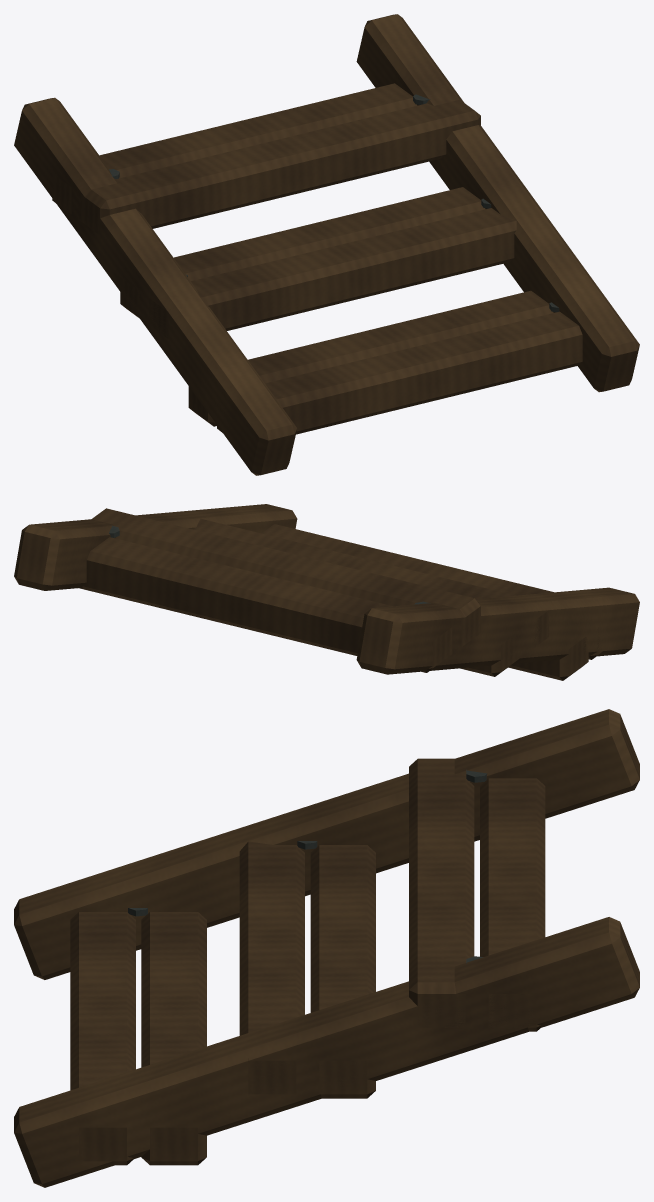
Rendered from salvaged-stairs-cBuN6S1r.glb.
3 renders of one model, top to bottom at view 1: azimuth 30°, elevation 25°; view 2: azimuth 150°, elevation 25°; view 3: azimuth 270°, elevation 25°, orthographic. The views are drawn at different scales.
Parts seen in each view (by area): view 1: salvaged-stairs__RV_wood; view 2: salvaged-stairs__RV_wood; view 3: salvaged-stairs__RV_wood.
Part boxes in pixels (<box>): salvaged-stairs__RV_wood: <box>14,14,639,475</box>; salvaged-stairs__RV_wood: <box>14,504,639,680</box>; salvaged-stairs__RV_wood: <box>14,709,639,1187</box>.
Bounding box in the file's own units: 1 × 0.5162 × 1.15.
Materials: 2 (2 with a texture image).
